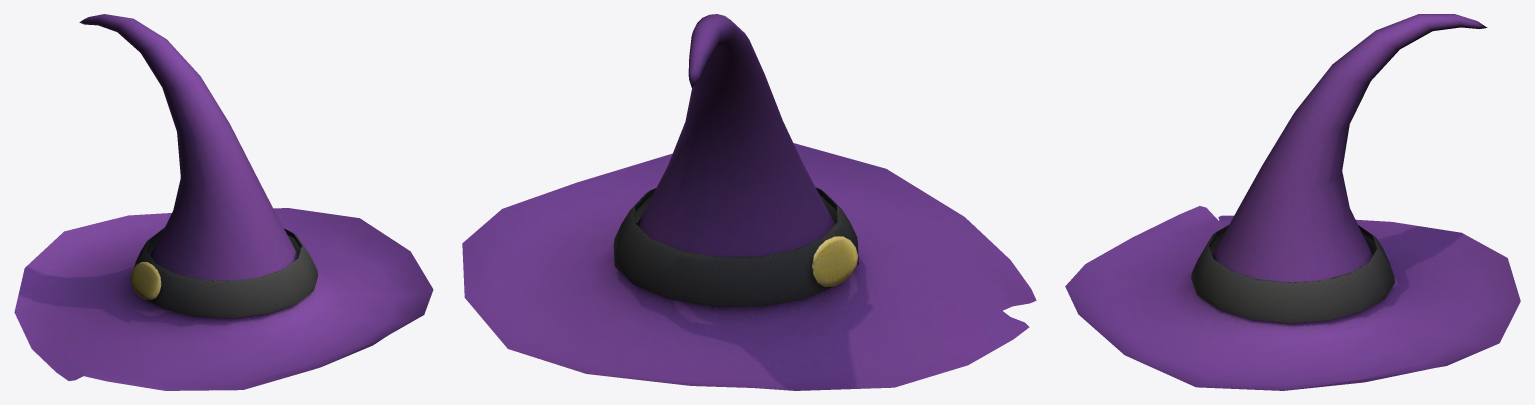
File: Hat.gltf
3 renders of one model, left to right at view 1: azimuth 30°, elevation 25°; view 2: azimuth 150°, elevation 25°; view 3: azimuth 270°, elevation 25°, orthographic. The views are drawn at different scales.
Visible parts, largest first — view 1: Hat; view 2: Hat; view 3: Hat.
Boxes of the visible parts, box(x1,y1,x2,y2) form: Hat: box(14, 14, 433, 390); Hat: box(462, 14, 1036, 390); Hat: box(1065, 14, 1520, 390).
Bounding box in the file's own units: 4.01 × 2.68 × 3.93.
1 material, 1 textured.
